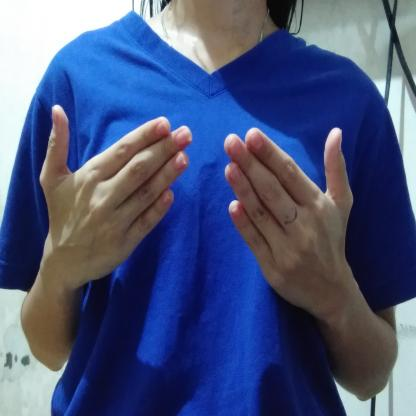night: (36, 100, 361, 319)
